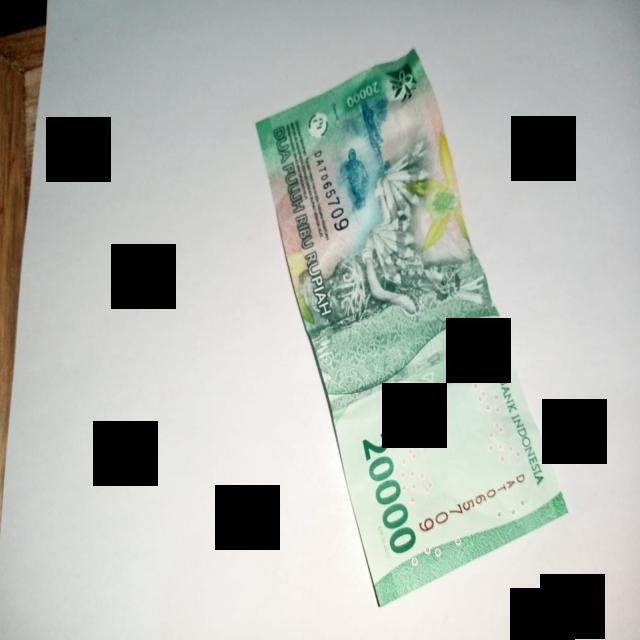dua puluh ribu rupiah: (256, 50, 566, 605)
